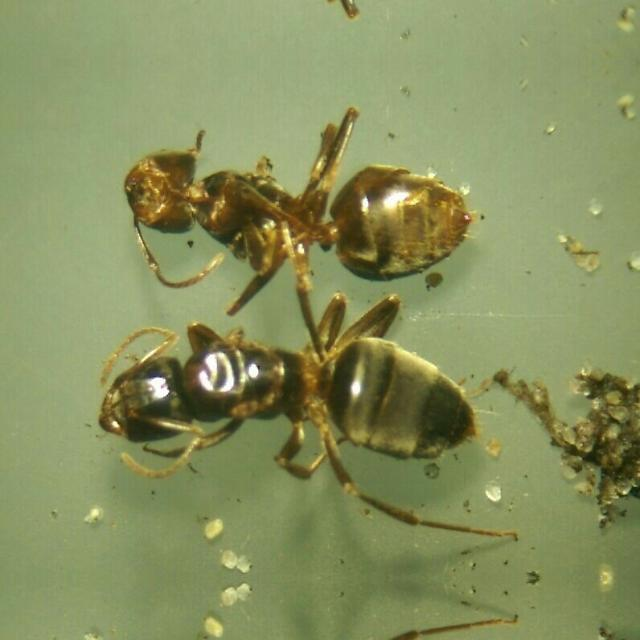Lasius: (49, 278, 517, 528), (73, 107, 490, 310)
